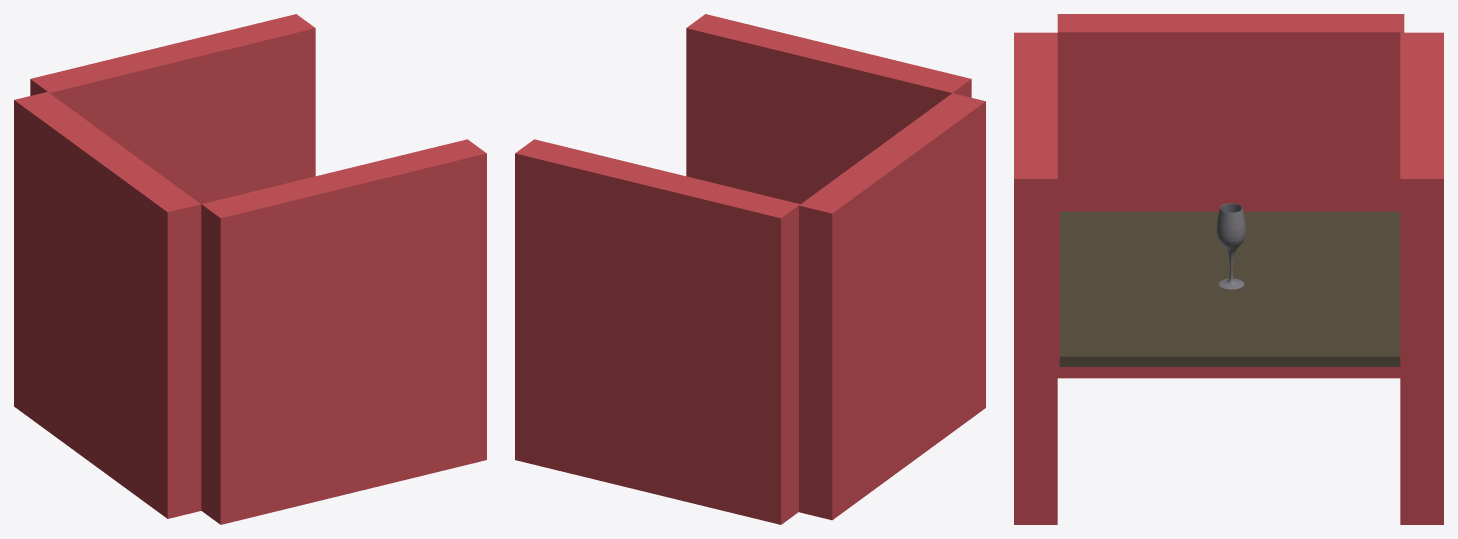
The model's file is WineGlasses9.obj.
3 renders of one model, left to right at view 1: azimuth 30°, elevation 25°; view 2: azimuth 150°, elevation 25°; view 3: azimuth 270°, elevation 25°, orthographic. The views are drawn at different scales.
Parts seen in each view (by area): view 1: Cube.002_Cube.007, Cube.003_Cube.006, Cube.001_Cube.004; view 2: Cube.001_Cube.004, Cube.003_Cube.006, Cube.002_Cube.007; view 3: Cube.003_Cube.006, Plane_Plane.004, Cube.002_Cube.007, Cube.001_Cube.004, wineglass_Circle.
Part boxes in pixels (left/top/right/bottom): Cube.002_Cube.007: left=201, top=139, right=486, bottom=524; Cube.003_Cube.006: left=14, top=92, right=201, bottom=518; Cube.001_Cube.004: left=30, top=14, right=315, bottom=204; Cube.001_Cube.004: left=515, top=139, right=800, bottom=524; Cube.003_Cube.006: left=799, top=93, right=985, bottom=520; Cube.002_Cube.007: left=686, top=14, right=971, bottom=203; Cube.003_Cube.006: left=1057, top=14, right=1404, bottom=378; Plane_Plane.004: left=1059, top=211, right=1400, bottom=366; Cube.002_Cube.007: left=1014, top=32, right=1057, bottom=524; Cube.001_Cube.004: left=1400, top=32, right=1443, bottom=524; wineglass_Circle: left=1216, top=203, right=1245, bottom=289.
Bounding box in the file's own units: 17.93 × 17.53 × 19.73.
